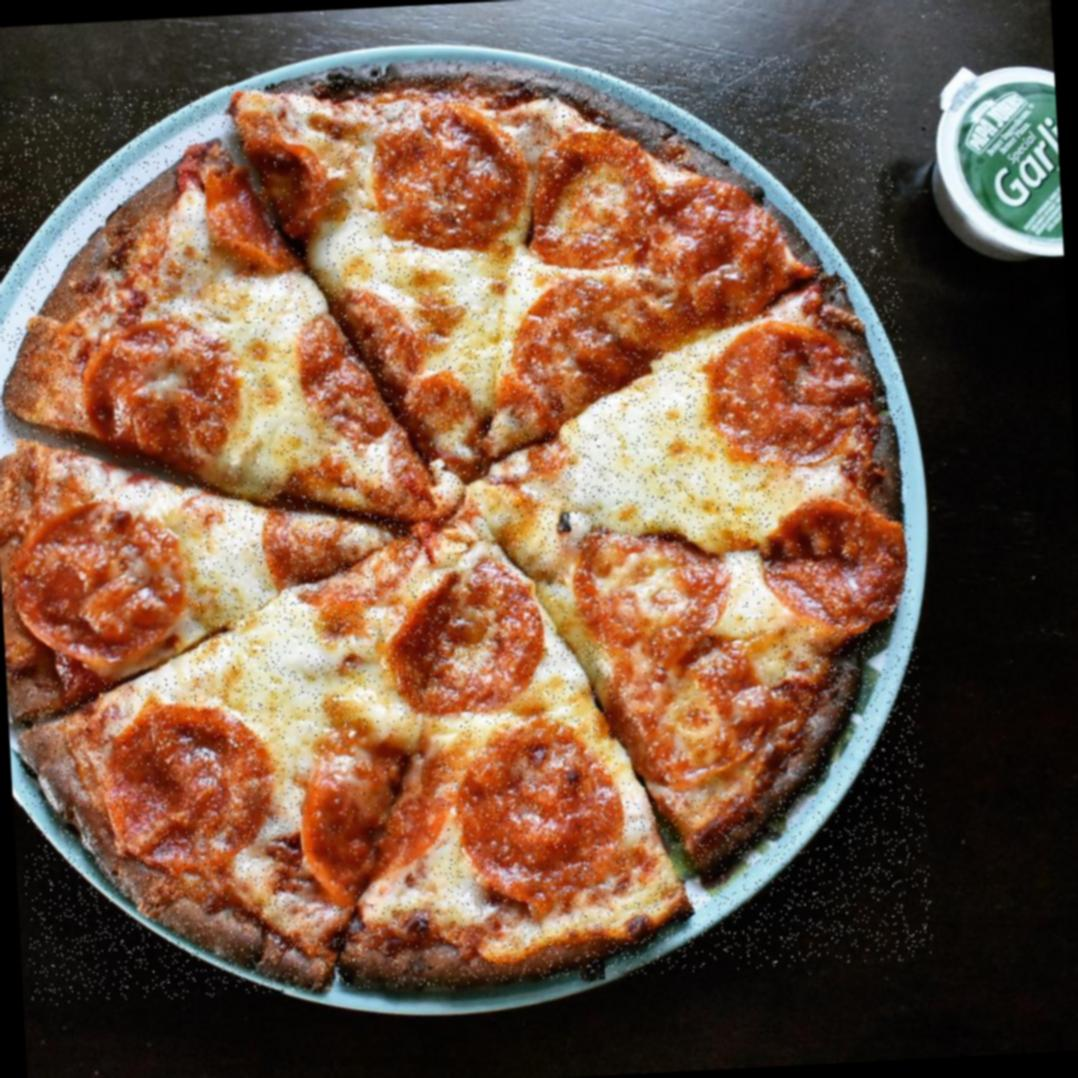Cheese: (537, 377, 772, 550), (345, 226, 550, 397), (182, 269, 318, 460)
Pepperoni: (98, 710, 288, 889), (15, 497, 190, 685), (466, 731, 625, 934), (84, 316, 250, 491), (612, 636, 782, 797), (264, 471, 436, 627), (297, 730, 445, 908), (392, 573, 550, 716), (364, 107, 514, 253), (649, 172, 796, 317), (288, 298, 436, 442), (756, 494, 906, 628), (700, 318, 862, 442), (562, 524, 728, 643), (204, 130, 328, 276), (530, 133, 649, 270), (520, 276, 658, 394)
Pizza: (0, 52, 933, 1007)
